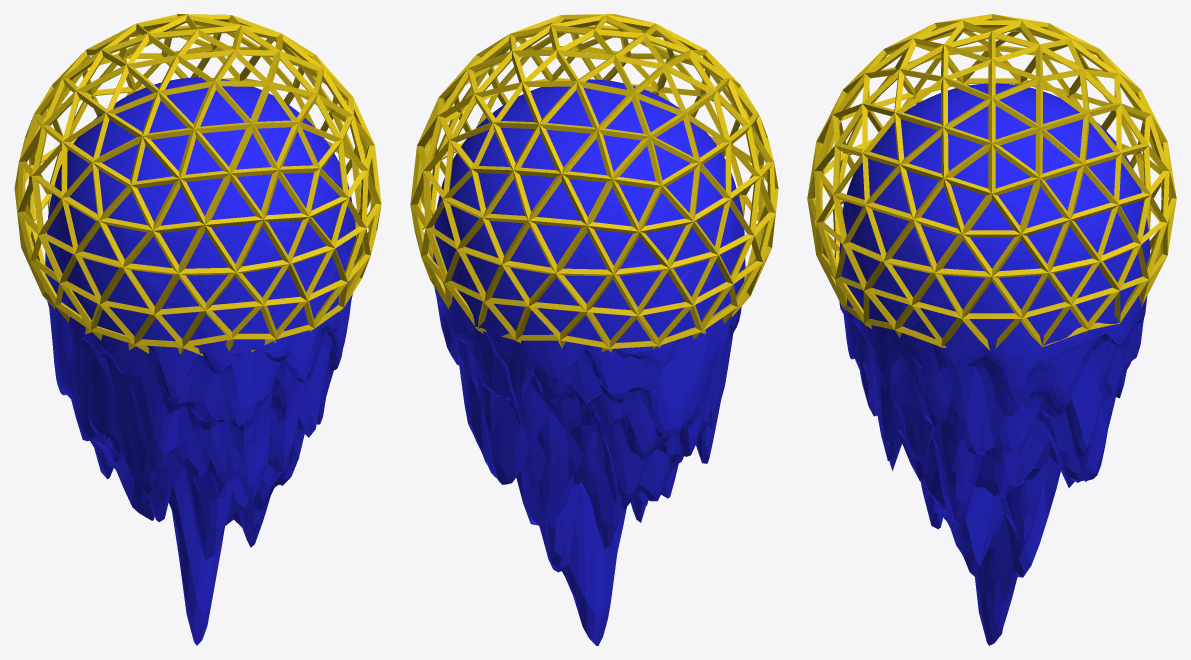
Rendered from BlueSlimeAttack.fbx.
3 renders of one model, left to right at view 1: azimuth 30°, elevation 25°; view 2: azimuth 150°, elevation 25°; view 3: azimuth 270°, elevation 25°, orthographic.
Parts seen in each view (by area): view 1: Icosphere, Icosphere.001; view 2: Icosphere, Icosphere.001; view 3: Icosphere, Icosphere.001.
Part boxes in pixels (x1,y1,x2,y2): Icosphere: (45, 77, 355, 645); Icosphere.001: (14, 14, 381, 355); Icosphere: (433, 79, 745, 645); Icosphere.001: (410, 14, 778, 352); Icosphere: (839, 83, 1149, 645); Icosphere.001: (807, 14, 1176, 350).
Bounding box in the file's own units: 118 × 218 × 118.
